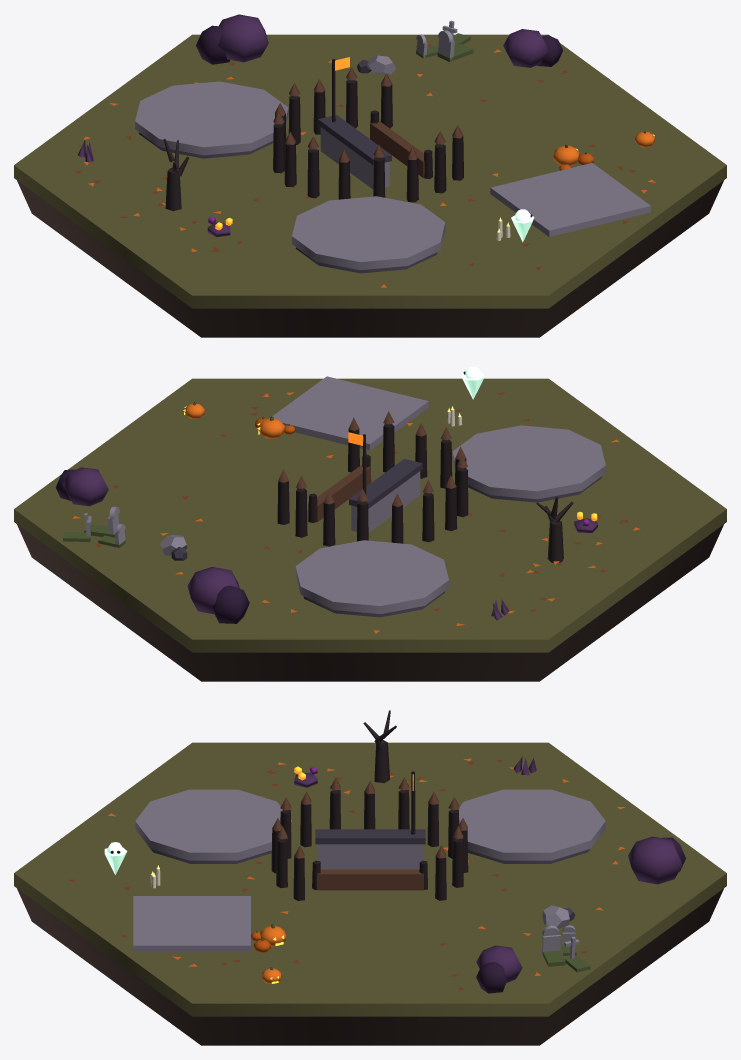
File: tile_deadEnd.glb
3 renders of one model, top to bottom at view 1: azimuth 30°, elevation 25°; view 2: azimuth 150°, elevation 25°; view 3: azimuth 270°, elevation 25°, orthographic.
Visible parts, largest first — view 1: ground, ground_soil, tower_slot_2_plate, tower_slot_1_plate, building_pad, deco_bush_5_a, bastion_wall, deco_bush_0_a, bastion_wall_cap, road_barrier, deco_bush_5_b, deco_tree_2_trunk (+5 smaller); view 2: ground, ground_soil, tower_slot_1_plate, tower_slot_2_plate, building_pad, deco_bush_5_a, deco_bush_0_a, bastion_wall, bastion_wall_cap, road_barrier, deco_bush_5_b, deco_tree_2_trunk (+8 smaller); view 3: ground, ground_soil, tower_slot_1_plate, tower_slot_2_plate, building_pad, bastion_wall, road_barrier, deco_bush_5_a, bastion_wall_cap, deco_bush_0_a, deco_bush_0_b, palisade_1 (+2 smaller).
Boxes of the visible parts, <box> form: ground: <box>14,34,726,308</box>; ground_soil: <box>17,180,723,337</box>; tower_slot_2_plate: <box>292,196,445,270</box>; tower_slot_1_plate: <box>135,81,288,155</box>; building_pad: <box>490,163,650,236</box>; deco_bush_5_a: <box>218,14,268,62</box>; bastion_wall: <box>320,127,389,189</box>; deco_bush_0_a: <box>503,29,547,67</box>; bastion_wall_cap: <box>318,115,391,165</box>; road_barrier: <box>370,121,424,178</box>; deco_bush_5_b: <box>196,25,229,64</box>; deco_tree_2_trunk: <box>165,168,181,211</box>; ground: <box>14,378,726,652</box>; ground_soil: <box>17,524,723,681</box>; tower_slot_1_plate: <box>295,540,448,614</box>; tower_slot_2_plate: <box>452,425,605,499</box>; building_pad: <box>272,376,428,450</box>; deco_bush_5_a: <box>187,567,239,614</box>; deco_bush_0_a: <box>62,467,108,506</box>; bastion_wall: <box>351,471,420,532</box>; bastion_wall_cap: <box>349,458,422,508</box>; road_barrier: <box>308,465,370,522</box>; deco_bush_5_b: <box>212,585,249,623</box>; deco_tree_2_trunk: <box>547,521,563,562</box>; ground: <box>14,742,726,1016</box>; ground_soil: <box>17,888,723,1045</box>; tower_slot_1_plate: <box>458,789,605,860</box>; tower_slot_2_plate: <box>135,789,291,860</box>; building_pad: <box>133,896,250,952</box>; bastion_wall: <box>317,844,423,869</box>; road_barrier: <box>317,869,423,890</box>; deco_bush_5_a: <box>628,836,682,884</box>; bastion_wall_cap: <box>315,829,425,844</box>; deco_bush_0_a: <box>476,945,522,982</box>; deco_bush_0_b: <box>476,962,507,993</box>; palisade_1: <box>452,838,463,887</box>.
Bounding box in the file's own units: 1.73 × 0.44 × 2.
